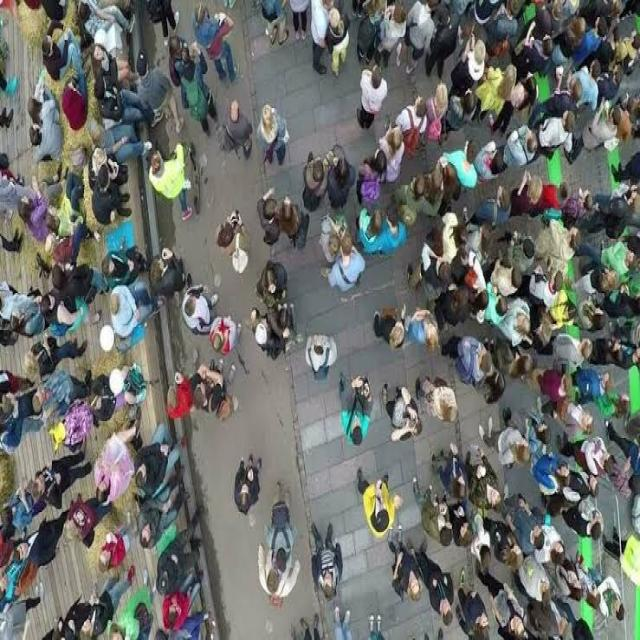humans: (133, 464, 197, 554), (153, 502, 207, 596), (134, 47, 188, 141), (131, 422, 193, 502), (85, 418, 138, 506), (475, 553, 528, 640), (192, 2, 248, 84), (93, 72, 169, 132), (146, 141, 192, 231), (554, 427, 620, 488), (28, 445, 94, 506), (336, 370, 375, 470), (354, 464, 402, 544), (56, 488, 120, 548), (378, 377, 426, 456), (568, 100, 621, 171), (12, 508, 68, 575), (576, 552, 626, 627), (179, 45, 217, 143), (412, 471, 454, 557), (89, 563, 134, 640), (490, 65, 539, 135), (262, 480, 298, 573), (442, 321, 493, 386), (396, 83, 433, 172), (417, 544, 456, 628), (463, 442, 506, 518), (412, 371, 467, 430), (309, 517, 345, 605), (27, 373, 99, 417), (247, 304, 298, 366), (503, 484, 545, 559), (38, 289, 106, 335), (478, 414, 530, 474), (91, 118, 158, 164), (213, 205, 254, 280), (387, 536, 426, 614), (256, 542, 300, 610), (326, 228, 368, 299), (161, 570, 209, 632), (90, 163, 138, 224), (485, 326, 533, 387), (521, 352, 574, 407), (468, 67, 515, 129), (49, 583, 100, 640), (36, 18, 84, 78), (25, 336, 93, 378), (535, 391, 597, 437), (322, 136, 358, 215), (254, 98, 291, 172), (97, 509, 137, 576), (497, 121, 539, 184), (230, 452, 266, 525), (437, 482, 474, 553), (595, 172, 640, 230), (582, 232, 638, 278), (501, 402, 552, 452), (219, 95, 253, 170), (0, 483, 51, 533), (462, 184, 514, 233), (194, 359, 240, 414), (430, 442, 468, 508), (513, 546, 556, 604), (405, 298, 441, 367), (400, 170, 440, 232), (145, 244, 190, 299), (379, 197, 409, 279), (180, 270, 216, 338), (482, 514, 524, 572), (458, 564, 490, 640), (404, 244, 452, 294), (532, 219, 582, 267), (40, 229, 103, 267), (447, 32, 486, 93), (375, 116, 407, 190), (563, 552, 602, 612), (358, 58, 388, 136), (90, 39, 135, 91), (532, 332, 592, 371), (44, 170, 80, 234), (372, 292, 408, 356), (252, 260, 296, 312), (276, 192, 312, 255), (531, 506, 568, 567), (48, 262, 104, 302), (528, 591, 573, 640), (18, 171, 48, 244), (442, 134, 481, 190), (87, 146, 133, 193), (302, 143, 330, 220), (309, 0, 335, 82), (607, 440, 640, 504), (446, 84, 478, 150), (427, 2, 453, 82), (486, 0, 519, 63), (358, 143, 389, 210), (569, 260, 619, 301), (324, 5, 351, 80), (553, 11, 585, 74), (538, 73, 584, 116), (539, 108, 577, 160), (521, 19, 553, 80), (424, 78, 449, 156), (61, 71, 91, 136), (411, 0, 438, 72), (22, 123, 68, 165), (162, 367, 198, 419), (256, 188, 285, 252), (577, 391, 633, 424), (493, 230, 538, 271), (304, 330, 338, 384), (568, 501, 606, 549), (574, 54, 602, 119), (431, 154, 462, 212), (592, 337, 640, 374), (574, 362, 613, 407), (209, 312, 247, 358), (478, 130, 508, 188), (468, 510, 493, 578), (525, 267, 564, 310), (532, 452, 568, 497), (355, 206, 385, 260), (507, 291, 534, 350), (611, 25, 640, 79), (163, 32, 193, 84), (316, 209, 342, 266), (549, 289, 578, 338), (576, 292, 608, 336), (514, 168, 542, 216), (22, 90, 64, 121), (599, 48, 624, 100), (570, 465, 602, 505), (569, 178, 593, 228), (584, 10, 606, 61), (0, 561, 28, 601), (540, 173, 568, 212), (486, 282, 509, 328), (531, 310, 553, 352)
